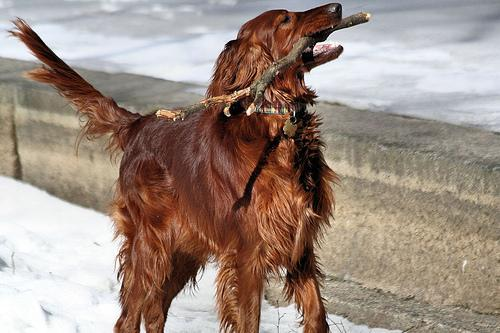Irish_setter: (7, 3, 348, 332)
